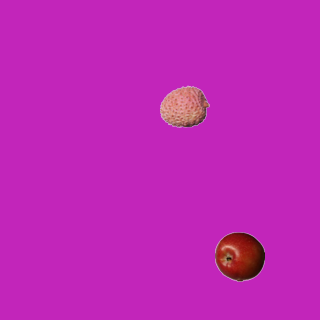Apple Braeburn: (214, 231, 264, 281)
Lychee: (159, 81, 209, 131)
